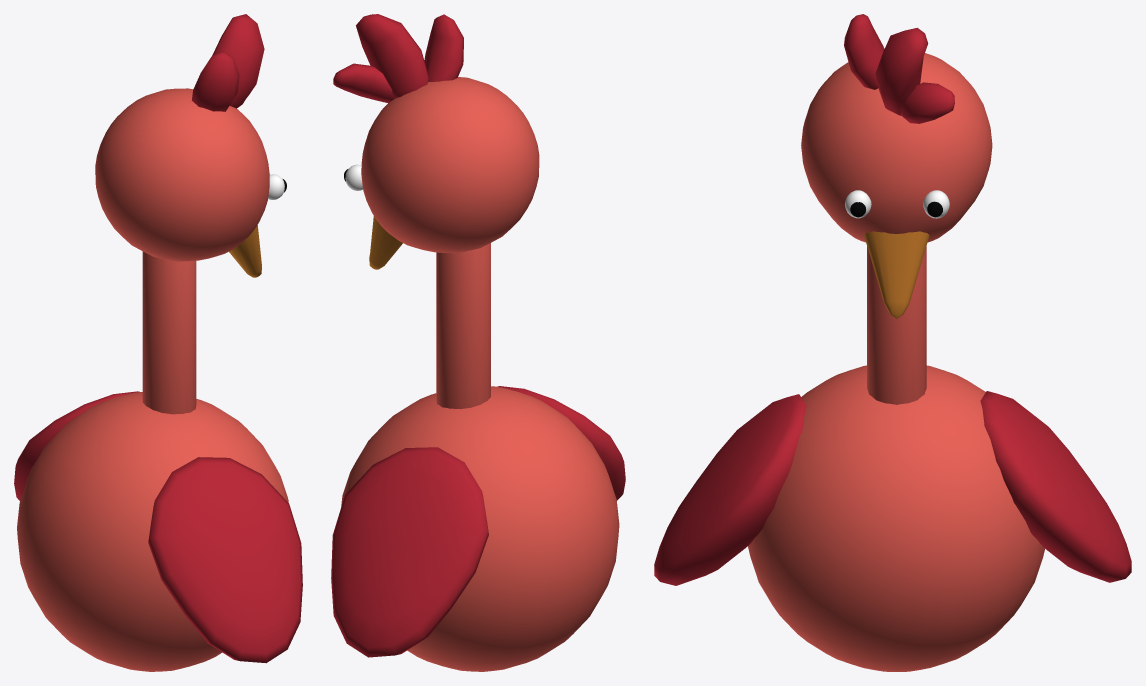
File: Bird.fbx
The picture shows the model from 3 angles, left to right: view 1: azimuth 30°, elevation 25°; view 2: azimuth 150°, elevation 25°; view 3: azimuth 270°, elevation 25°; orthographic projection. The views are drawn at different scales.
Parts seen in each view (by area): view 1: Sphere.003, Sphere.004, Sphere, Cylinder, Sphere.007, Sphere.005, Sphere.006; view 2: Sphere.003, Sphere.005, Sphere, Cylinder, Sphere.007, Sphere.004, Sphere.006; view 3: Sphere.003, Sphere, Sphere.004, Sphere.005, Sphere.007, Cylinder, Sphere.006.
Boxes of the visible parts, x1,y1,x2,y2 form: Sphere.003: [17, 392, 288, 671]; Sphere.004: [148, 457, 302, 663]; Sphere: [95, 88, 269, 261]; Cylinder: [142, 251, 196, 414]; Sphere.007: [191, 14, 264, 111]; Sphere.005: [14, 391, 139, 500]; Sphere.006: [229, 225, 261, 277]; Sphere.003: [341, 386, 619, 671]; Sphere.005: [331, 447, 488, 657]; Sphere: [361, 77, 539, 253]; Cylinder: [436, 243, 490, 408]; Sphere.007: [333, 14, 463, 103]; Sphere.004: [497, 386, 625, 500]; Sphere.006: [369, 216, 402, 269]; Sphere.003: [748, 365, 1044, 671]; Sphere: [801, 53, 992, 242]; Sphere.004: [654, 394, 806, 585]; Sphere.005: [980, 391, 1131, 582]; Sphere.007: [844, 14, 954, 123]; Cylinder: [867, 246, 926, 404]; Sphere.006: [864, 231, 929, 318].
Bounding box in the file's own units: 307 × 754 × 480.
